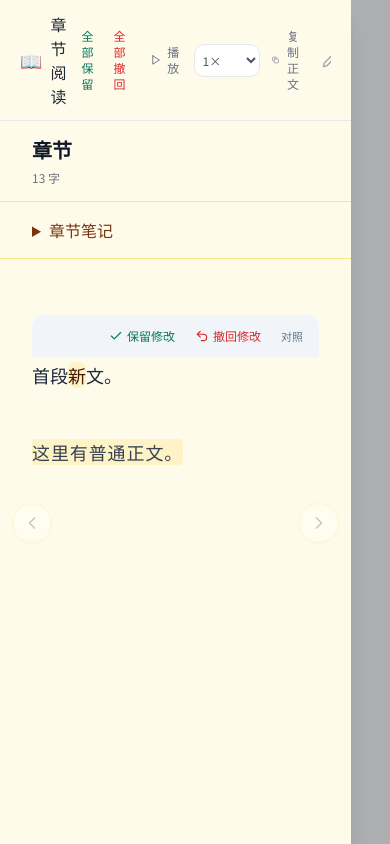
Test: NodeDetailDrawer › edits ordinary chapter text after opening a source reference, pending diff=true
Click the button "这里有普通正文。" at point(108, 452), box [32, 439, 183, 465]
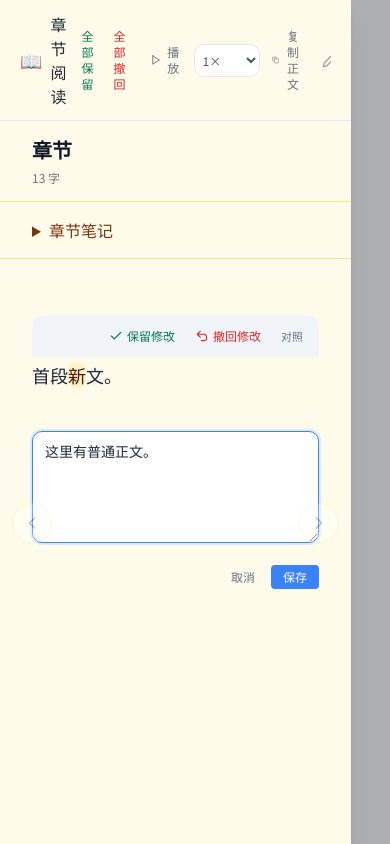
Now the text box named "编辑段落内容" holds "这里有普通正文。"
Replace the text in the text box named "编辑段落内容" with "这里是手动修改后的正文。" at point(176, 487), box [32, 431, 319, 543]
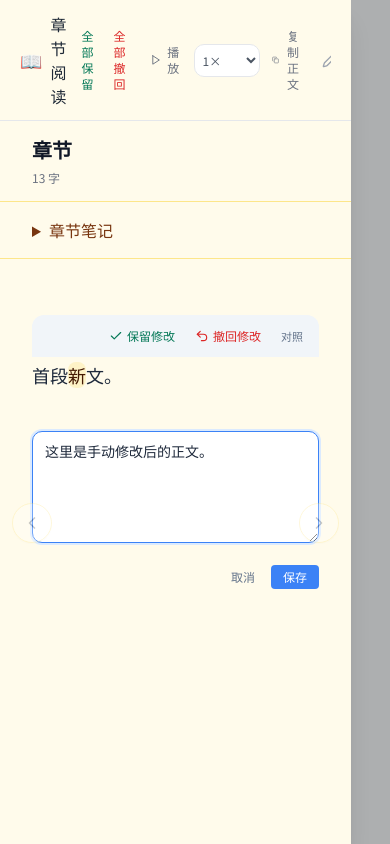
Click the button with aria-label "保存段落" at point(295, 577), box [271, 565, 319, 589]
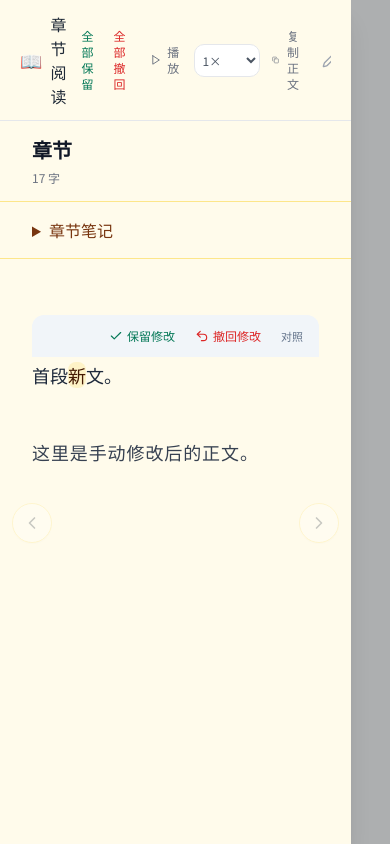
Now the text box labelled "编辑段落内容" is gone
